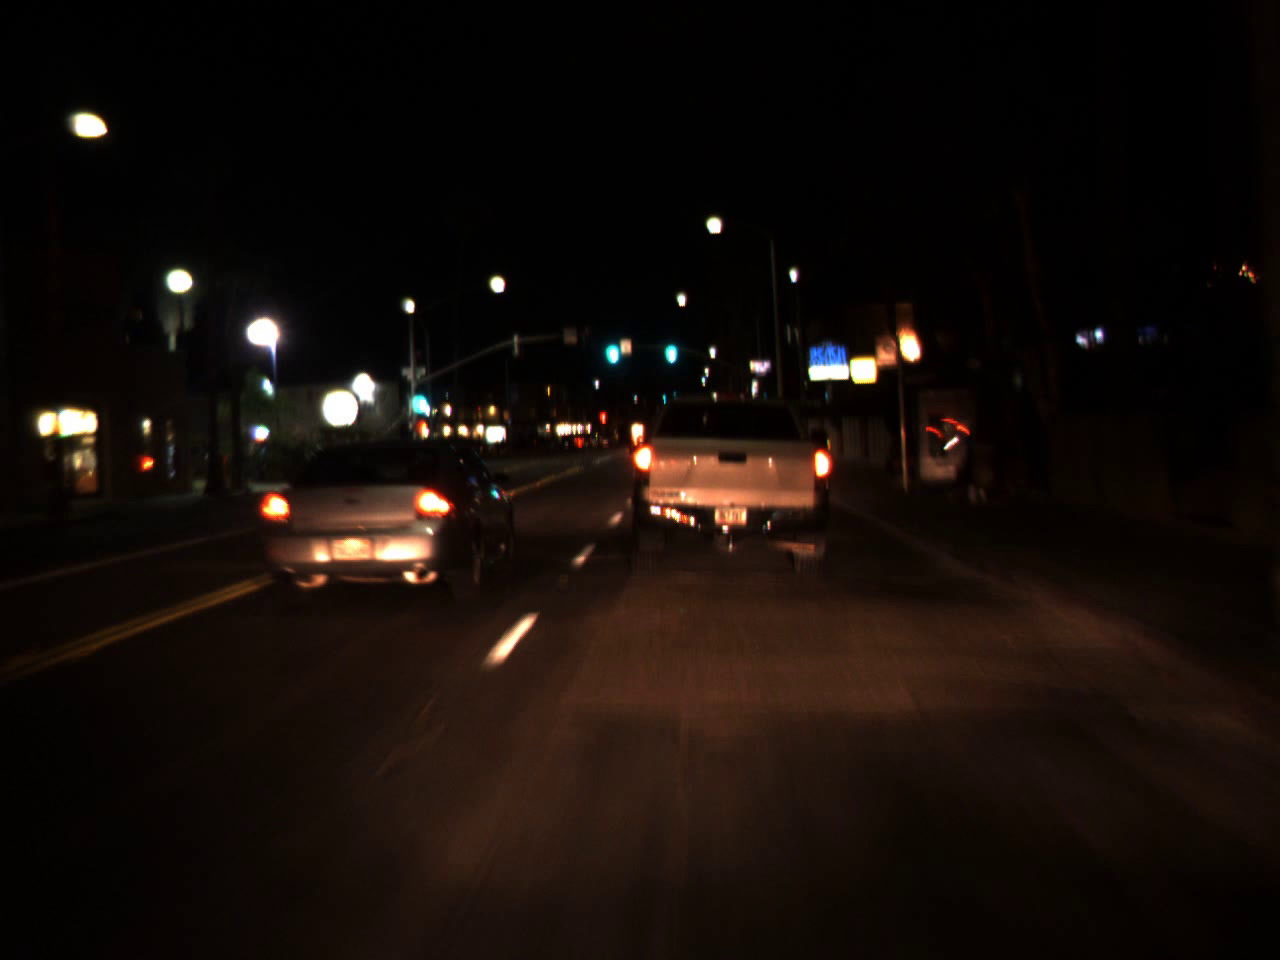go: (404, 368, 432, 425), (600, 320, 621, 371), (661, 322, 679, 370)
